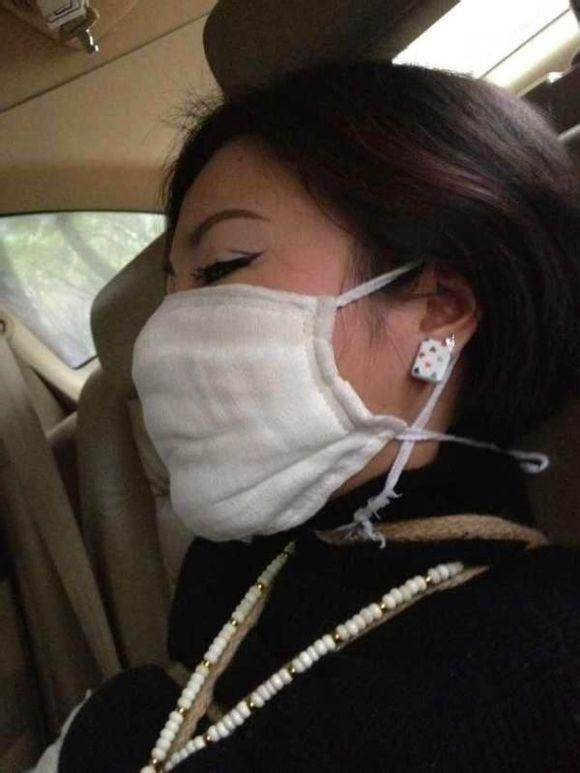OK: (135, 216, 397, 518)
